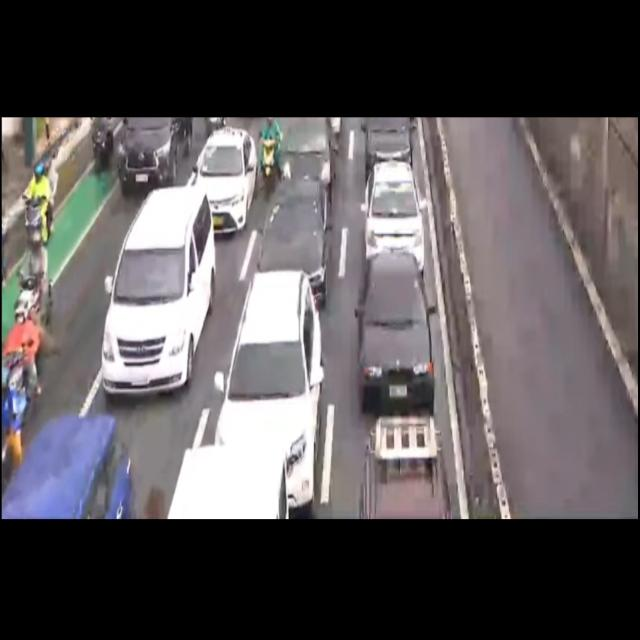Motorcycle: (0, 289, 40, 461), (14, 219, 52, 345), (25, 147, 55, 252), (256, 120, 282, 199), (88, 114, 114, 176)
SUV: (98, 186, 217, 398), (220, 267, 322, 505), (0, 413, 131, 526), (360, 248, 432, 402), (355, 415, 454, 515), (115, 108, 191, 184)
Sedan: (254, 178, 329, 295), (359, 168, 422, 271)
